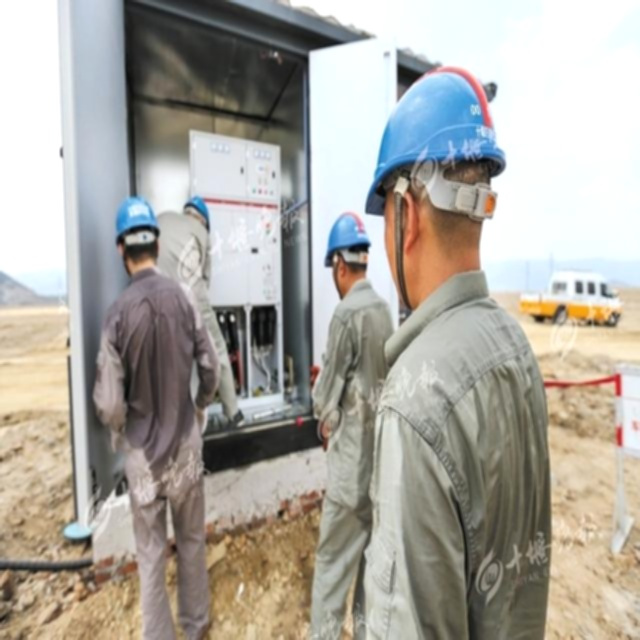Con_Casco: (367, 66, 503, 301)
